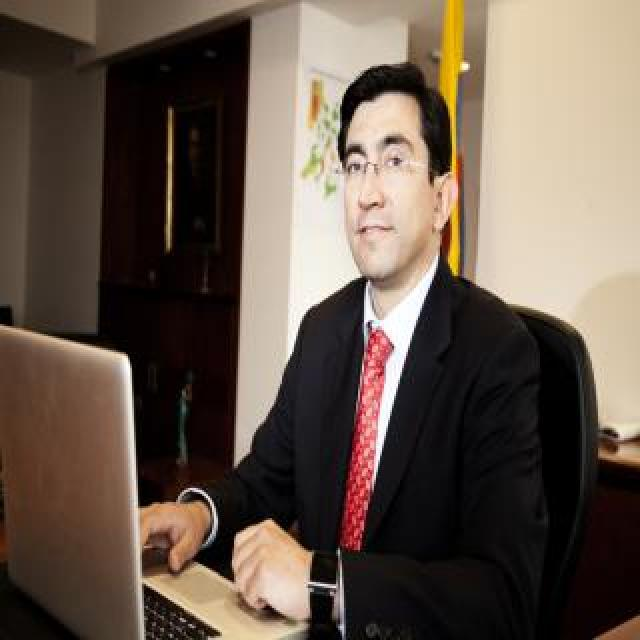laptop_computer: (2, 287, 306, 635)
